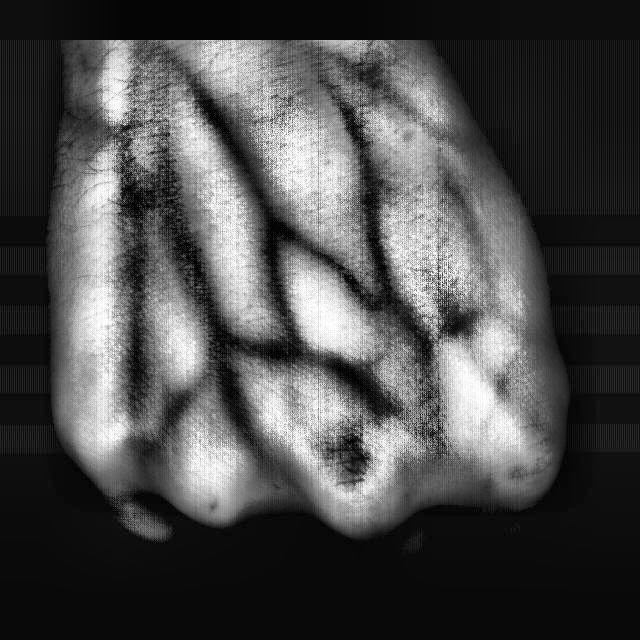Vein: (162, 44, 278, 220), (143, 154, 232, 334)
